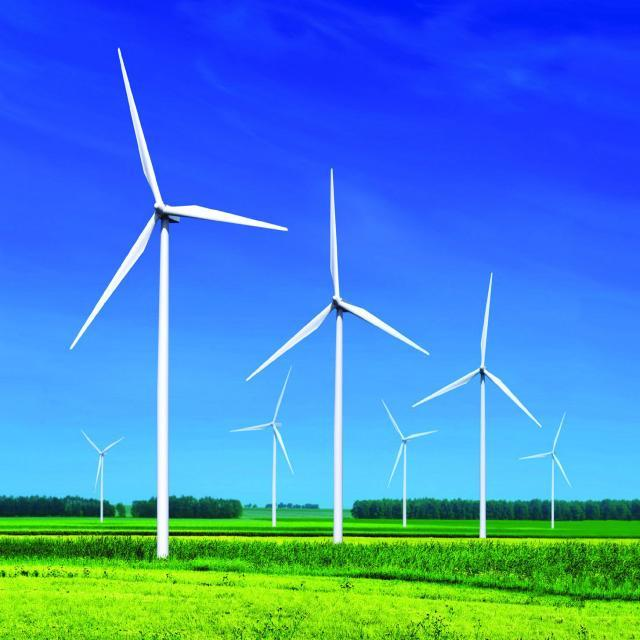solid-blade: (70, 214, 158, 348), (118, 49, 164, 208), (246, 304, 332, 381), (340, 301, 430, 355), (486, 369, 541, 428), (162, 205, 286, 231), (412, 369, 480, 407), (330, 169, 340, 302), (481, 272, 492, 363)
